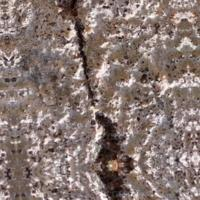crack: (62, 1, 140, 195)
